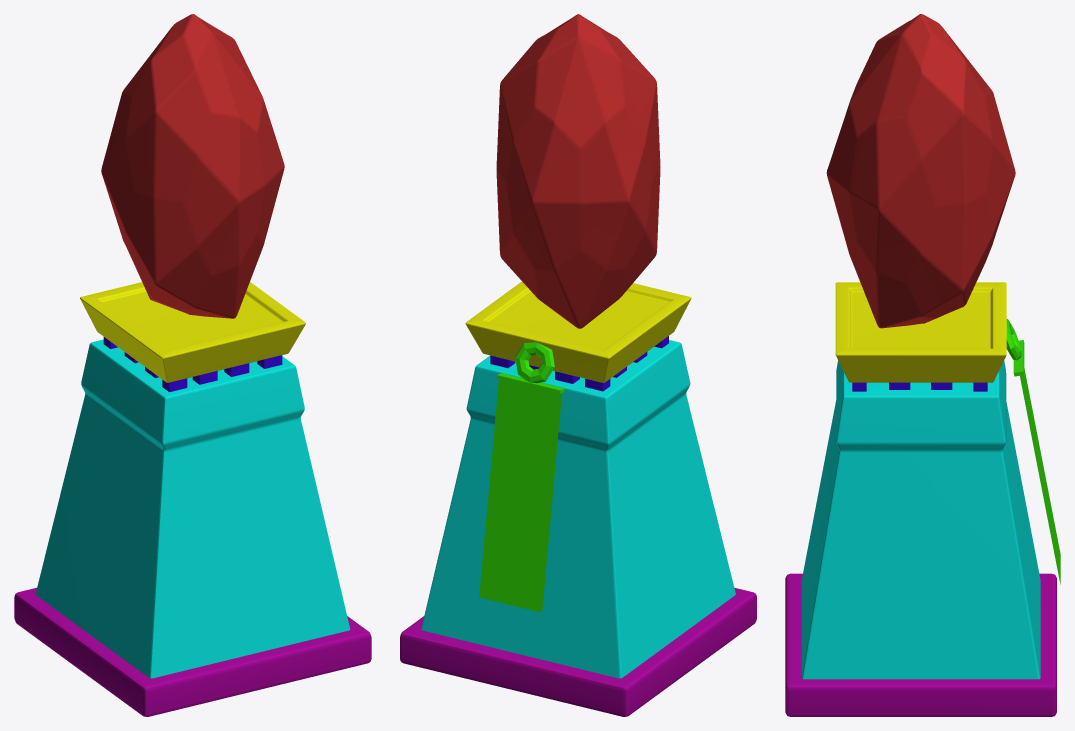
Rendered from FBX_gemTower3.fbx.
3 renders of one model, left to right at view 1: azimuth 30°, elevation 25°; view 2: azimuth 150°, elevation 25°; view 3: azimuth 270°, elevation 25°, orthographic. The views are drawn at different scales.
Parts seen in each view (by area): view 1: BaseB, Gem, BottomFloor, TopBase; view 2: BaseB, Gem, BottomFloor, Flag, TopBase, MetalLoop; view 3: BaseB, Gem, BottomFloor, TopBase, Flag.
Boxes of the visible parts, <box> form: BaseB: <box>35,339,350,678</box>; Gem: <box>101,14,284,318</box>; BottomFloor: <box>14,587,371,716</box>; TopBase: <box>80,282,305,382</box>; BaseB: <box>421,340,735,678</box>; Gem: <box>496,14,660,328</box>; BottomFloor: <box>400,587,756,716</box>; Flag: <box>479,379,561,612</box>; TopBase: <box>465,281,691,382</box>; MetalLoop: <box>515,342,554,383</box>; BaseB: <box>801,360,1040,679</box>; Gem: <box>826,14,1015,328</box>; BottomFloor: <box>785,573,1056,716</box>; TopBase: <box>835,282,1006,382</box>; Flag: <box>1020,368,1060,584</box>.
Size of the model in its own units: 3.63 by 9.54 by 3.68.
